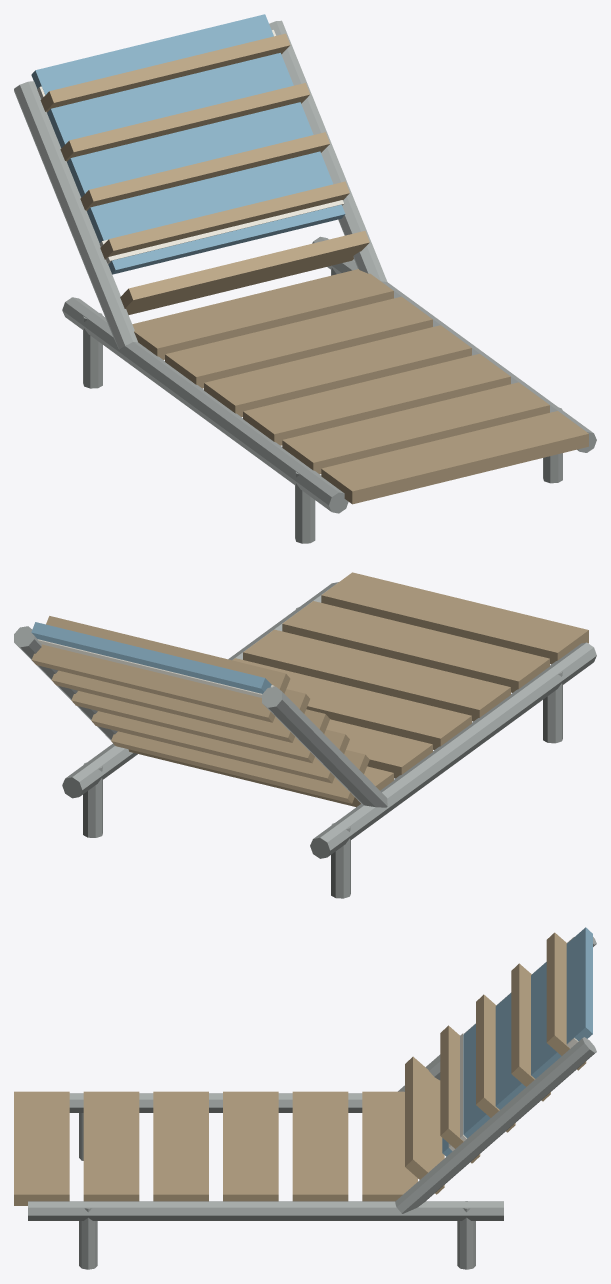
Rendered from reserved-lounger-blue.glb.
3 renders of one model, top to bottom at view 1: azimuth 30°, elevation 25°; view 2: azimuth 150°, elevation 25°; view 3: azimuth 270°, elevation 25°, orthographic. The views are drawn at different scales.
Parts seen in each view (by area): view 1: wood slat, reserved towel cloth, frame rail, towel hem; view 2: wood slat, frame rail, reserved towel cloth, towel hem; view 3: wood slat, frame rail, reserved towel cloth, towel hem.
Part boxes in pixels (x1=…): wood slat: x1=40, y1=33, x2=588, y2=504; reserved towel cloth: x1=31, y1=14, x2=345, y2=274; frame rail: x1=14, y1=20, x2=596, y2=543; towel hem: x1=37, y1=30, x2=343, y2=264; wood slat: x1=31, y1=572, x2=588, y2=807; frame rail: x1=14, y1=582, x2=596, y2=898; reserved towel cloth: x1=31, y1=622, x2=271, y2=693; towel hem: x1=37, y1=639, x2=274, y2=697; wood slat: x1=14, y1=932, x2=586, y2=1205; frame rail: x1=28, y1=937, x2=596, y2=1269; reserved towel cloth: x1=442, y1=927, x2=592, y2=1156; towel hem: x1=448, y1=936, x2=578, y2=1151.
Size of the model in its own units: 1.19 by 1.12 by 2.51.
